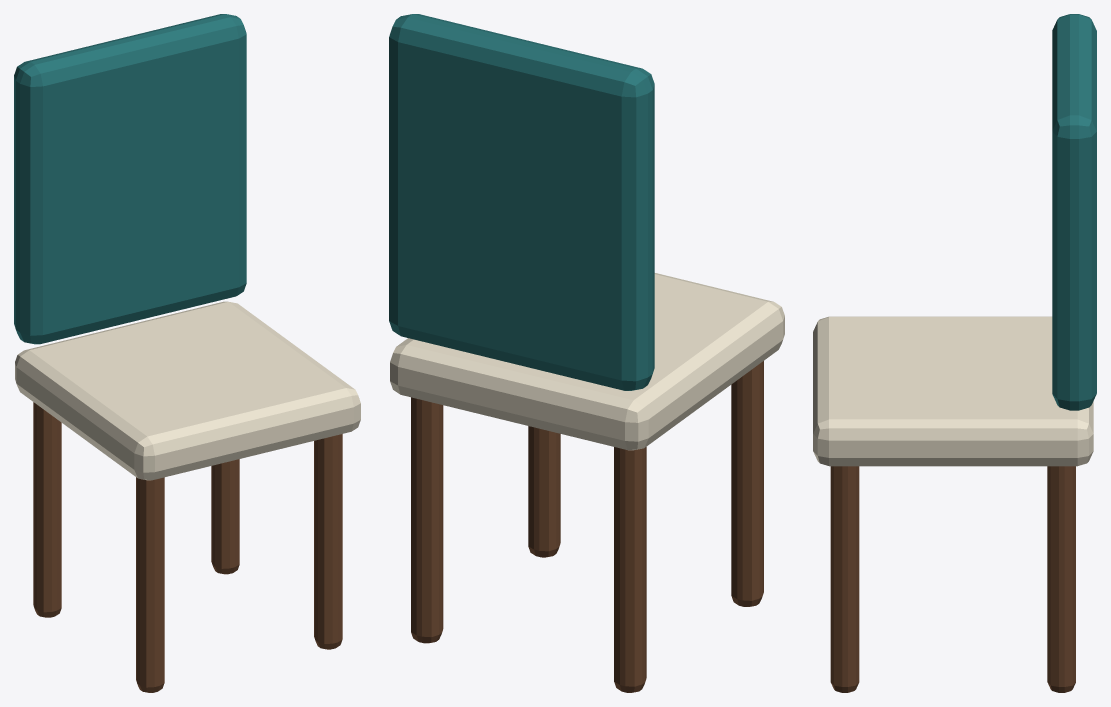
The model's file is guest_chair.glb.
3 views of the same model, side by side, from view 1: azimuth 30°, elevation 25°; view 2: azimuth 150°, elevation 25°; view 3: azimuth 270°, elevation 25° (orthographic). The views are drawn at different scales.
Visible parts, largest first — view 1: guest_chair; view 2: guest_chair; view 3: guest_chair.
Part boxes in pixels (x1=…): guest_chair: x1=14, y1=14, x2=360, y2=692; guest_chair: x1=389, y1=14, x2=784, y2=692; guest_chair: x1=813, y1=14, x2=1096, y2=692.
Size of the model in its own units: 0.43 by 1 by 0.445.
